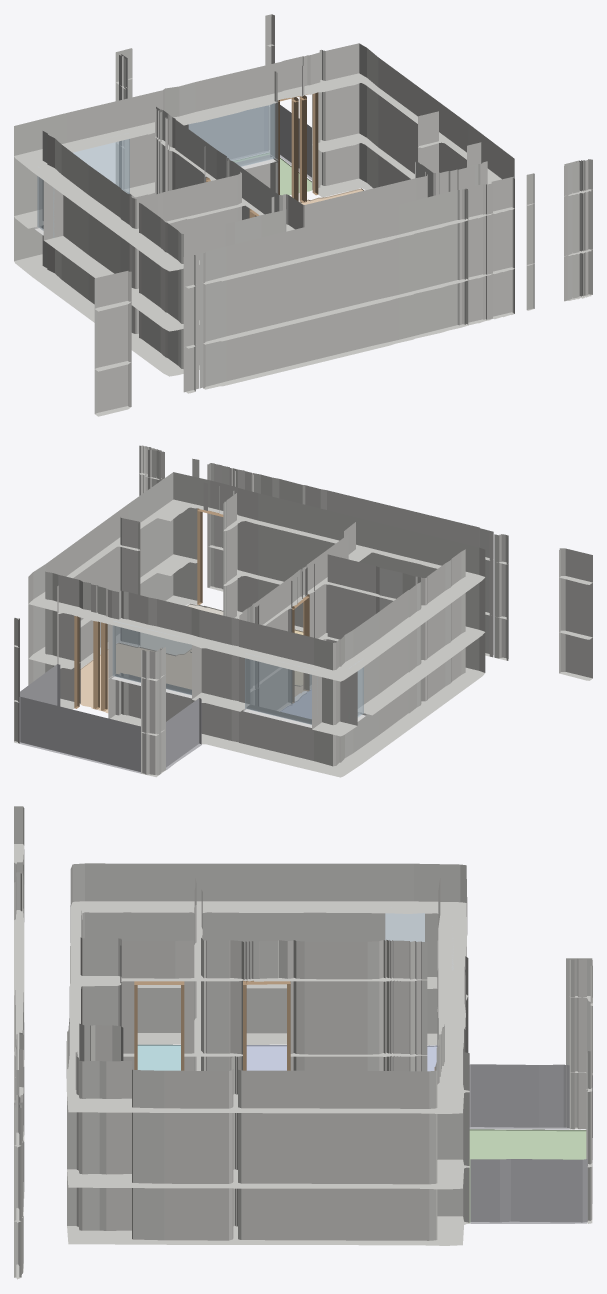
3 renders of one model, top to bottom at view 1: azimuth 30°, elevation 25°; view 2: azimuth 150°, elevation 25°; view 3: azimuth 270°, elevation 25°, orthographic. The views are drawn at different scales.
Visible parts, largest first — view 1: walls, railings, window_7, window_6, door_0, door_2, door_1, floor_0_Outdoor; view 2: walls, railings, window_6, window_7, floor_2_Living_Room, floor_5_Entry, door_5, door_3, door_2, door_1, door_0, floor_3_Bed_Room; view 3: walls, railings, floor_0_Outdoor, floor_3_Bed_Room, floor_4_Bath, window_8, door_4, door_3.
Boxes of the visible parts, x1,y1,x2,y2 form: walls: (14, 14, 592, 416); railings: (189, 105, 311, 180); window_7: (188, 103, 275, 166); window_6: (73, 139, 129, 193); door_0: (278, 92, 318, 195); door_2: (299, 95, 306, 202); door_1: (291, 97, 298, 201); floor_0_Outdoor: (233, 152, 311, 195); walls: (14, 445, 592, 777); railings: (19, 664, 201, 773); window_6: (245, 653, 317, 724); window_7: (112, 621, 191, 695); floor_2_Living_Room: (80, 643, 303, 713); floor_5_Entry: (140, 603, 223, 654); door_5: (197, 508, 223, 604); door_3: (292, 594, 309, 703); door_2: (93, 621, 99, 709); door_1: (101, 622, 107, 711); door_0: (74, 616, 79, 708); floor_3_Bed_Room: (280, 689, 311, 718); walls: (14, 806, 592, 1279); railings: (469, 1064, 592, 1223); floor_0_Outdoor: (469, 1129, 586, 1223); floor_3_Bed_Room: (246, 1045, 437, 1071); floor_4_Bath: (137, 1044, 180, 1070); window_8: (385, 913, 424, 941); door_4: (134, 981, 184, 1070); door_3: (243, 980, 290, 1070).
Bounding box in the file's own units: 10.36 × 2.72 × 8.36.
